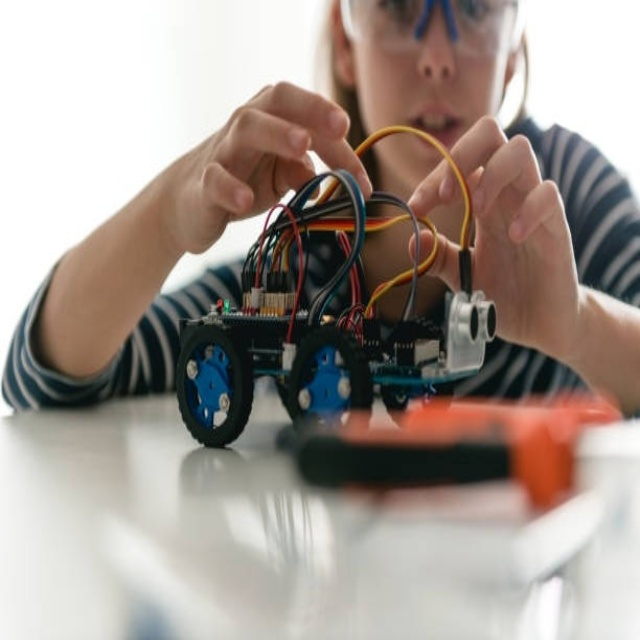Gafas: (344, 0, 517, 58)
Sin_guantes: (406, 109, 581, 360), (182, 75, 366, 259)
Sin_mascara: (399, 78, 472, 151)
